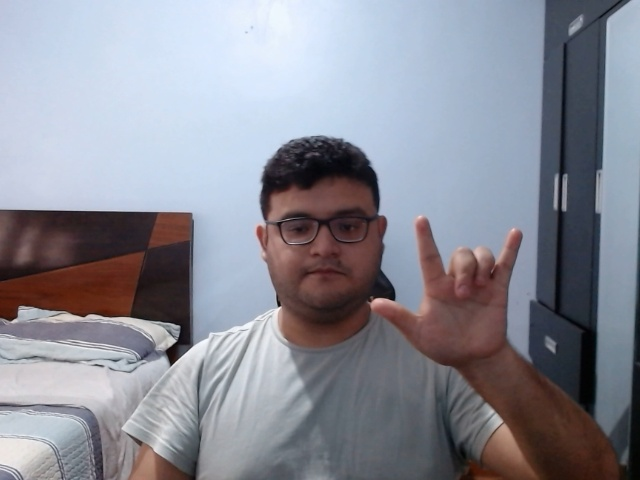I love you: (368, 205, 524, 373)
